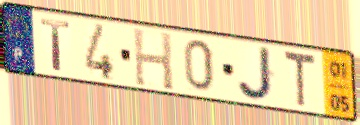0: (181, 37, 219, 95)
4: (83, 22, 116, 83)
H: (131, 25, 176, 93)
J: (235, 45, 277, 103)
T: (282, 47, 318, 111), (38, 16, 73, 73)
